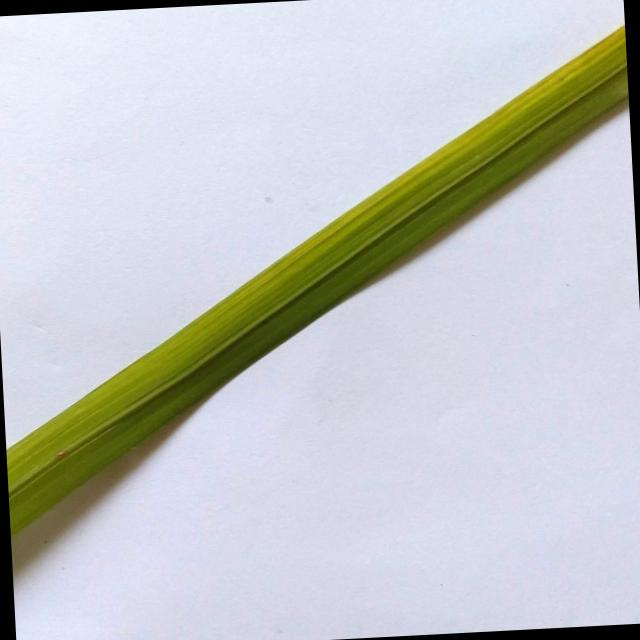Rice_Healthy: (6, 27, 629, 535)
